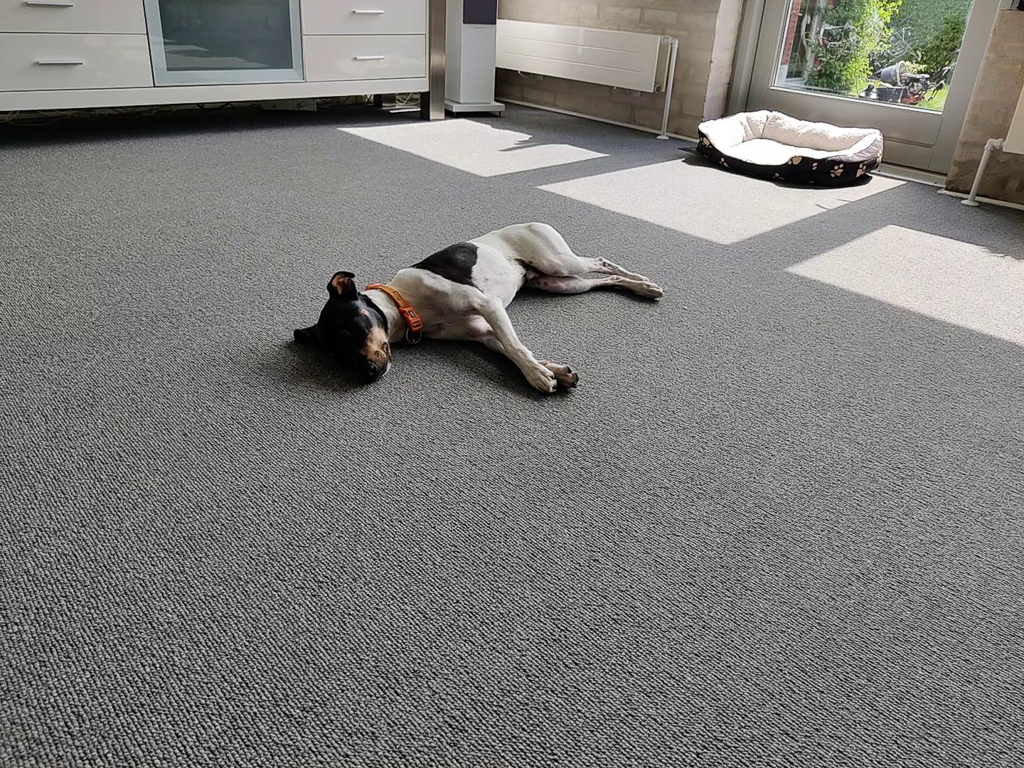Dog: (259, 193, 684, 422)
Humanoid: (855, 81, 882, 104)
